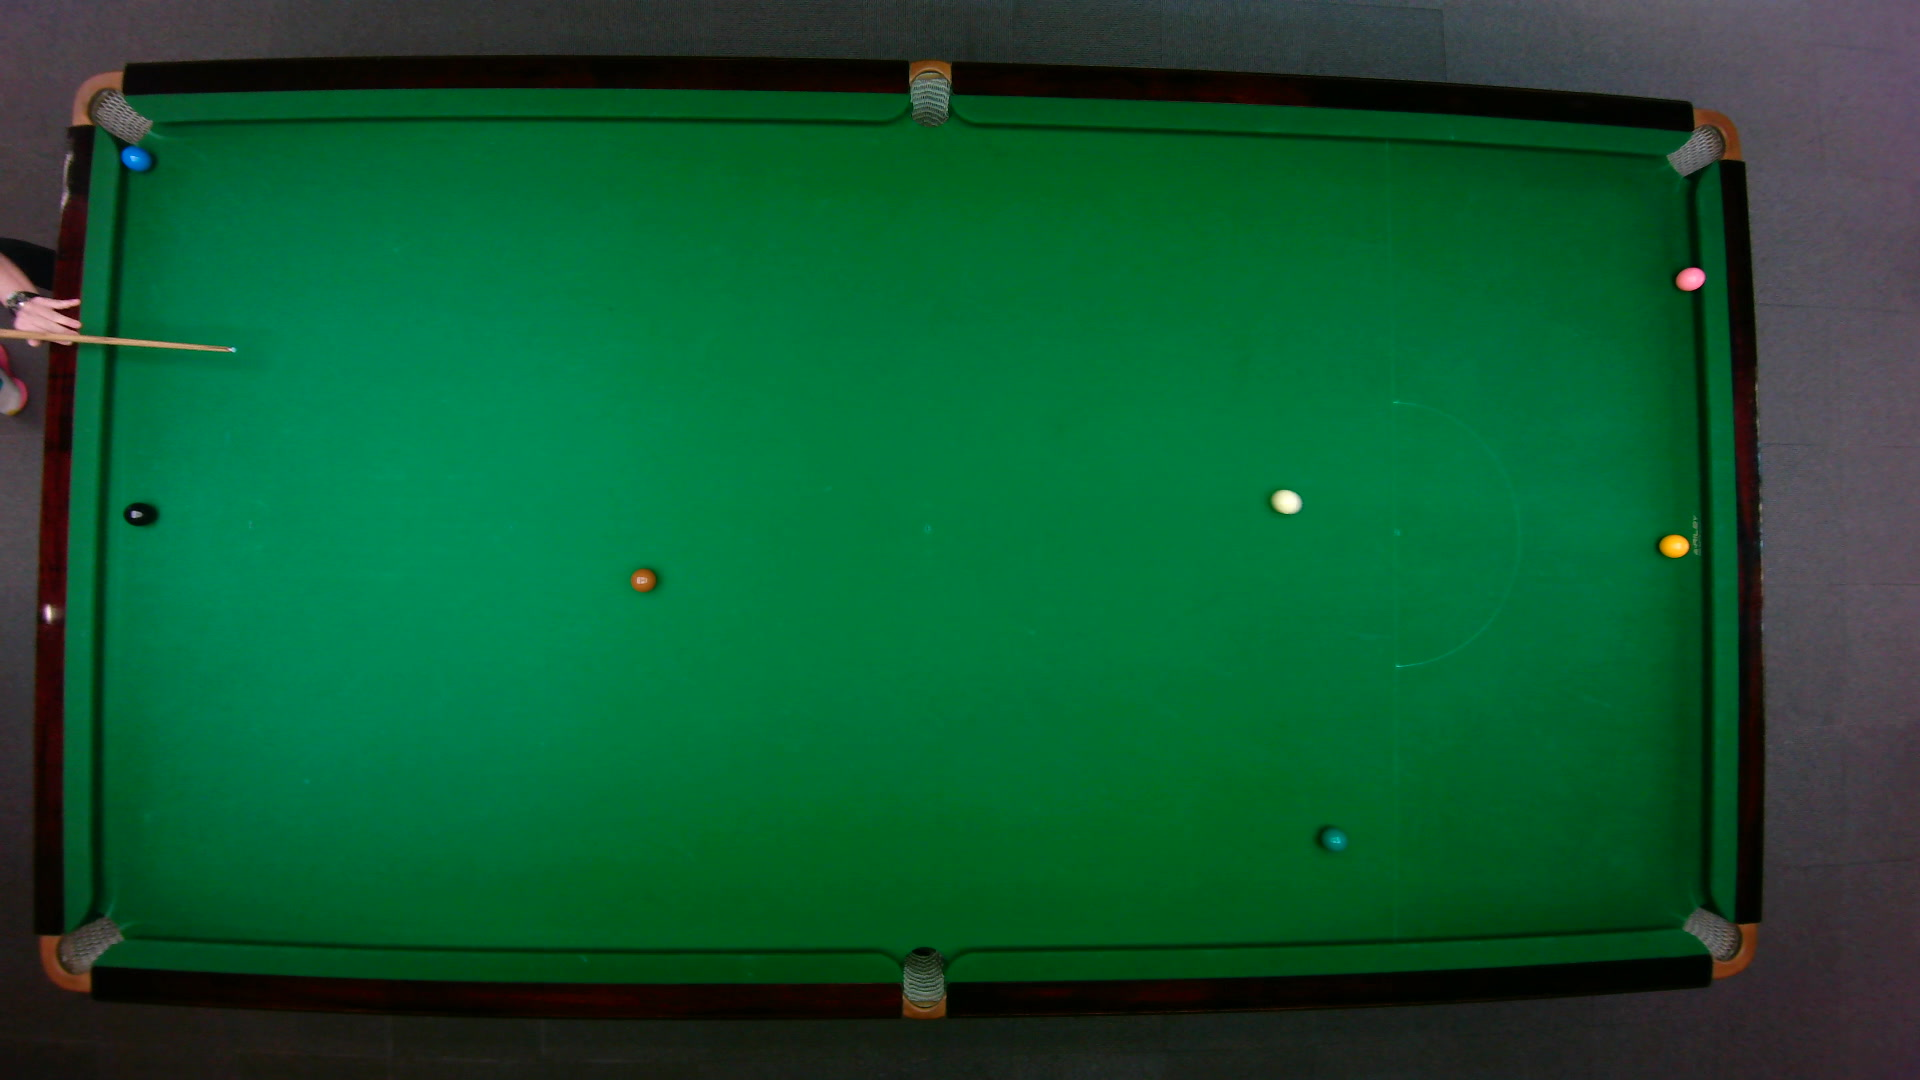bag: (37, 914, 125, 993), (69, 69, 152, 145), (1679, 905, 1758, 978), (1663, 107, 1741, 177), (901, 944, 944, 1021), (909, 57, 949, 127)
black: (121, 501, 153, 526)
blue: (117, 144, 152, 171)
brown: (629, 566, 657, 593)
cue: (0, 326, 237, 355)
green: (1317, 824, 1349, 852)
pink: (1673, 264, 1706, 291)
white: (1269, 487, 1303, 516)
yellow: (1658, 531, 1691, 558)
zone: (1390, 400, 1520, 667)
